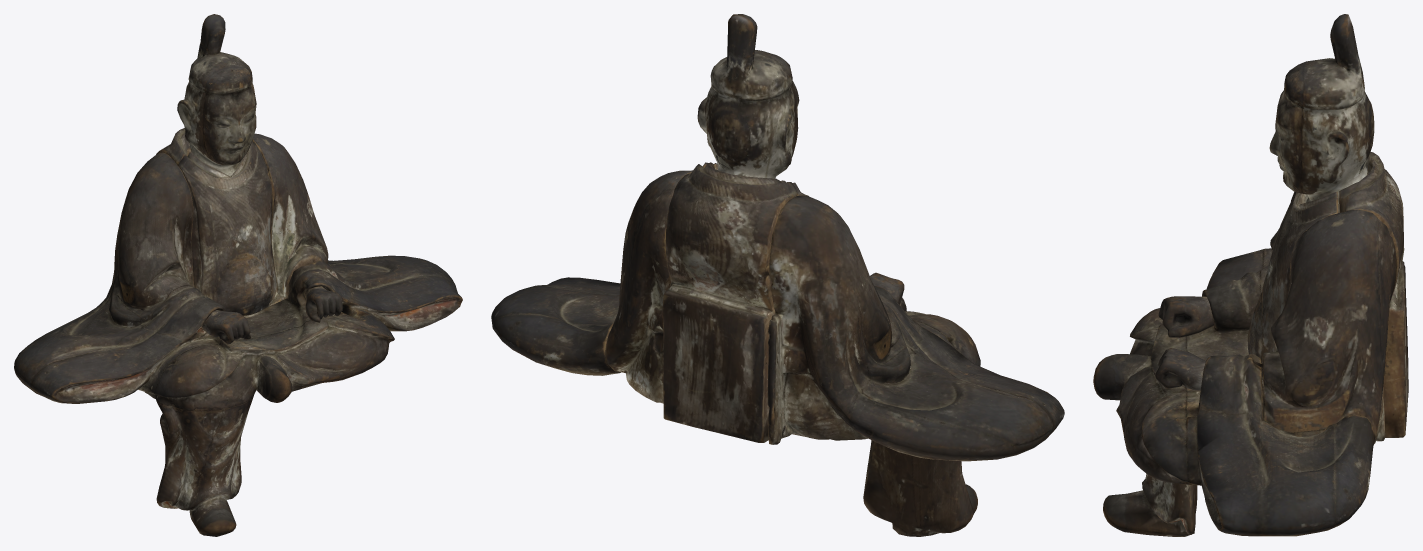
File: judge-a.glb
3 views of the same model, side by side, from view 1: azimuth 30°, elevation 25°; view 2: azimuth 150°, elevation 25°; view 3: azimuth 270°, elevation 25° (orthographic). The views are drawn at different scales.
Visible parts, largest first — view 1: judge-a; view 2: judge-a; view 3: judge-a.
Boxes of the visible parts, <box> form: judge-a: <box>14,14,462,536</box>; judge-a: <box>491,14,1064,536</box>; judge-a: <box>1093,14,1408,536</box>.
Bounding box in the file's own units: 0.7131 × 0.6978 × 0.3562.
Materials: 1 (1 with a texture image).
